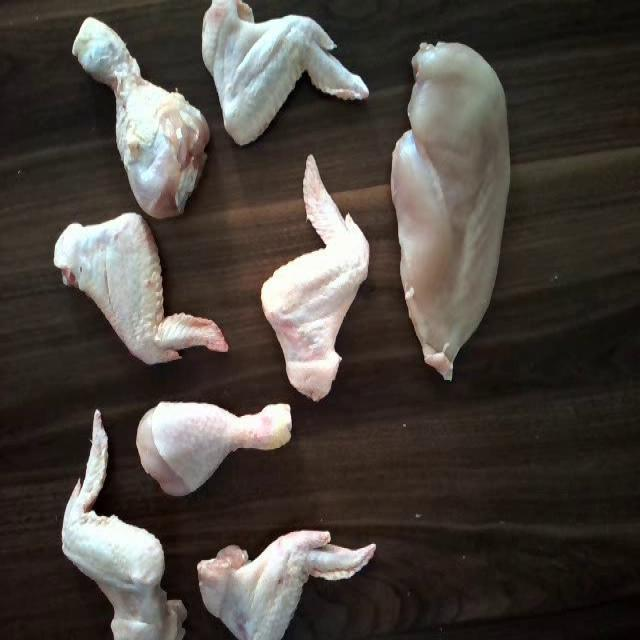breast: (393, 33, 514, 388)
leg: (65, 10, 214, 223), (138, 398, 302, 503)
wing: (33, 202, 231, 369), (257, 148, 373, 398), (66, 410, 190, 640), (193, 0, 374, 144), (190, 520, 374, 640)
